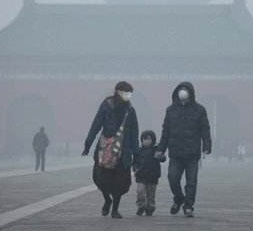person: (81, 78, 140, 219), (155, 81, 212, 217), (132, 130, 164, 216), (31, 125, 51, 173)
